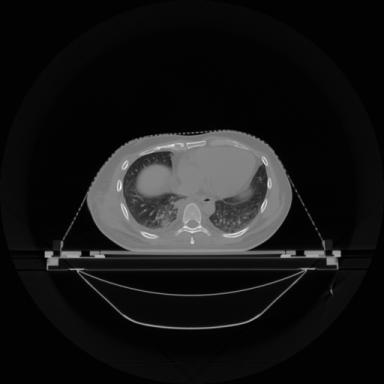body: (88, 130, 292, 251)
cord: (175, 203, 211, 244)
paru kanan: (124, 152, 184, 228)
paru kiri: (210, 165, 267, 232)
